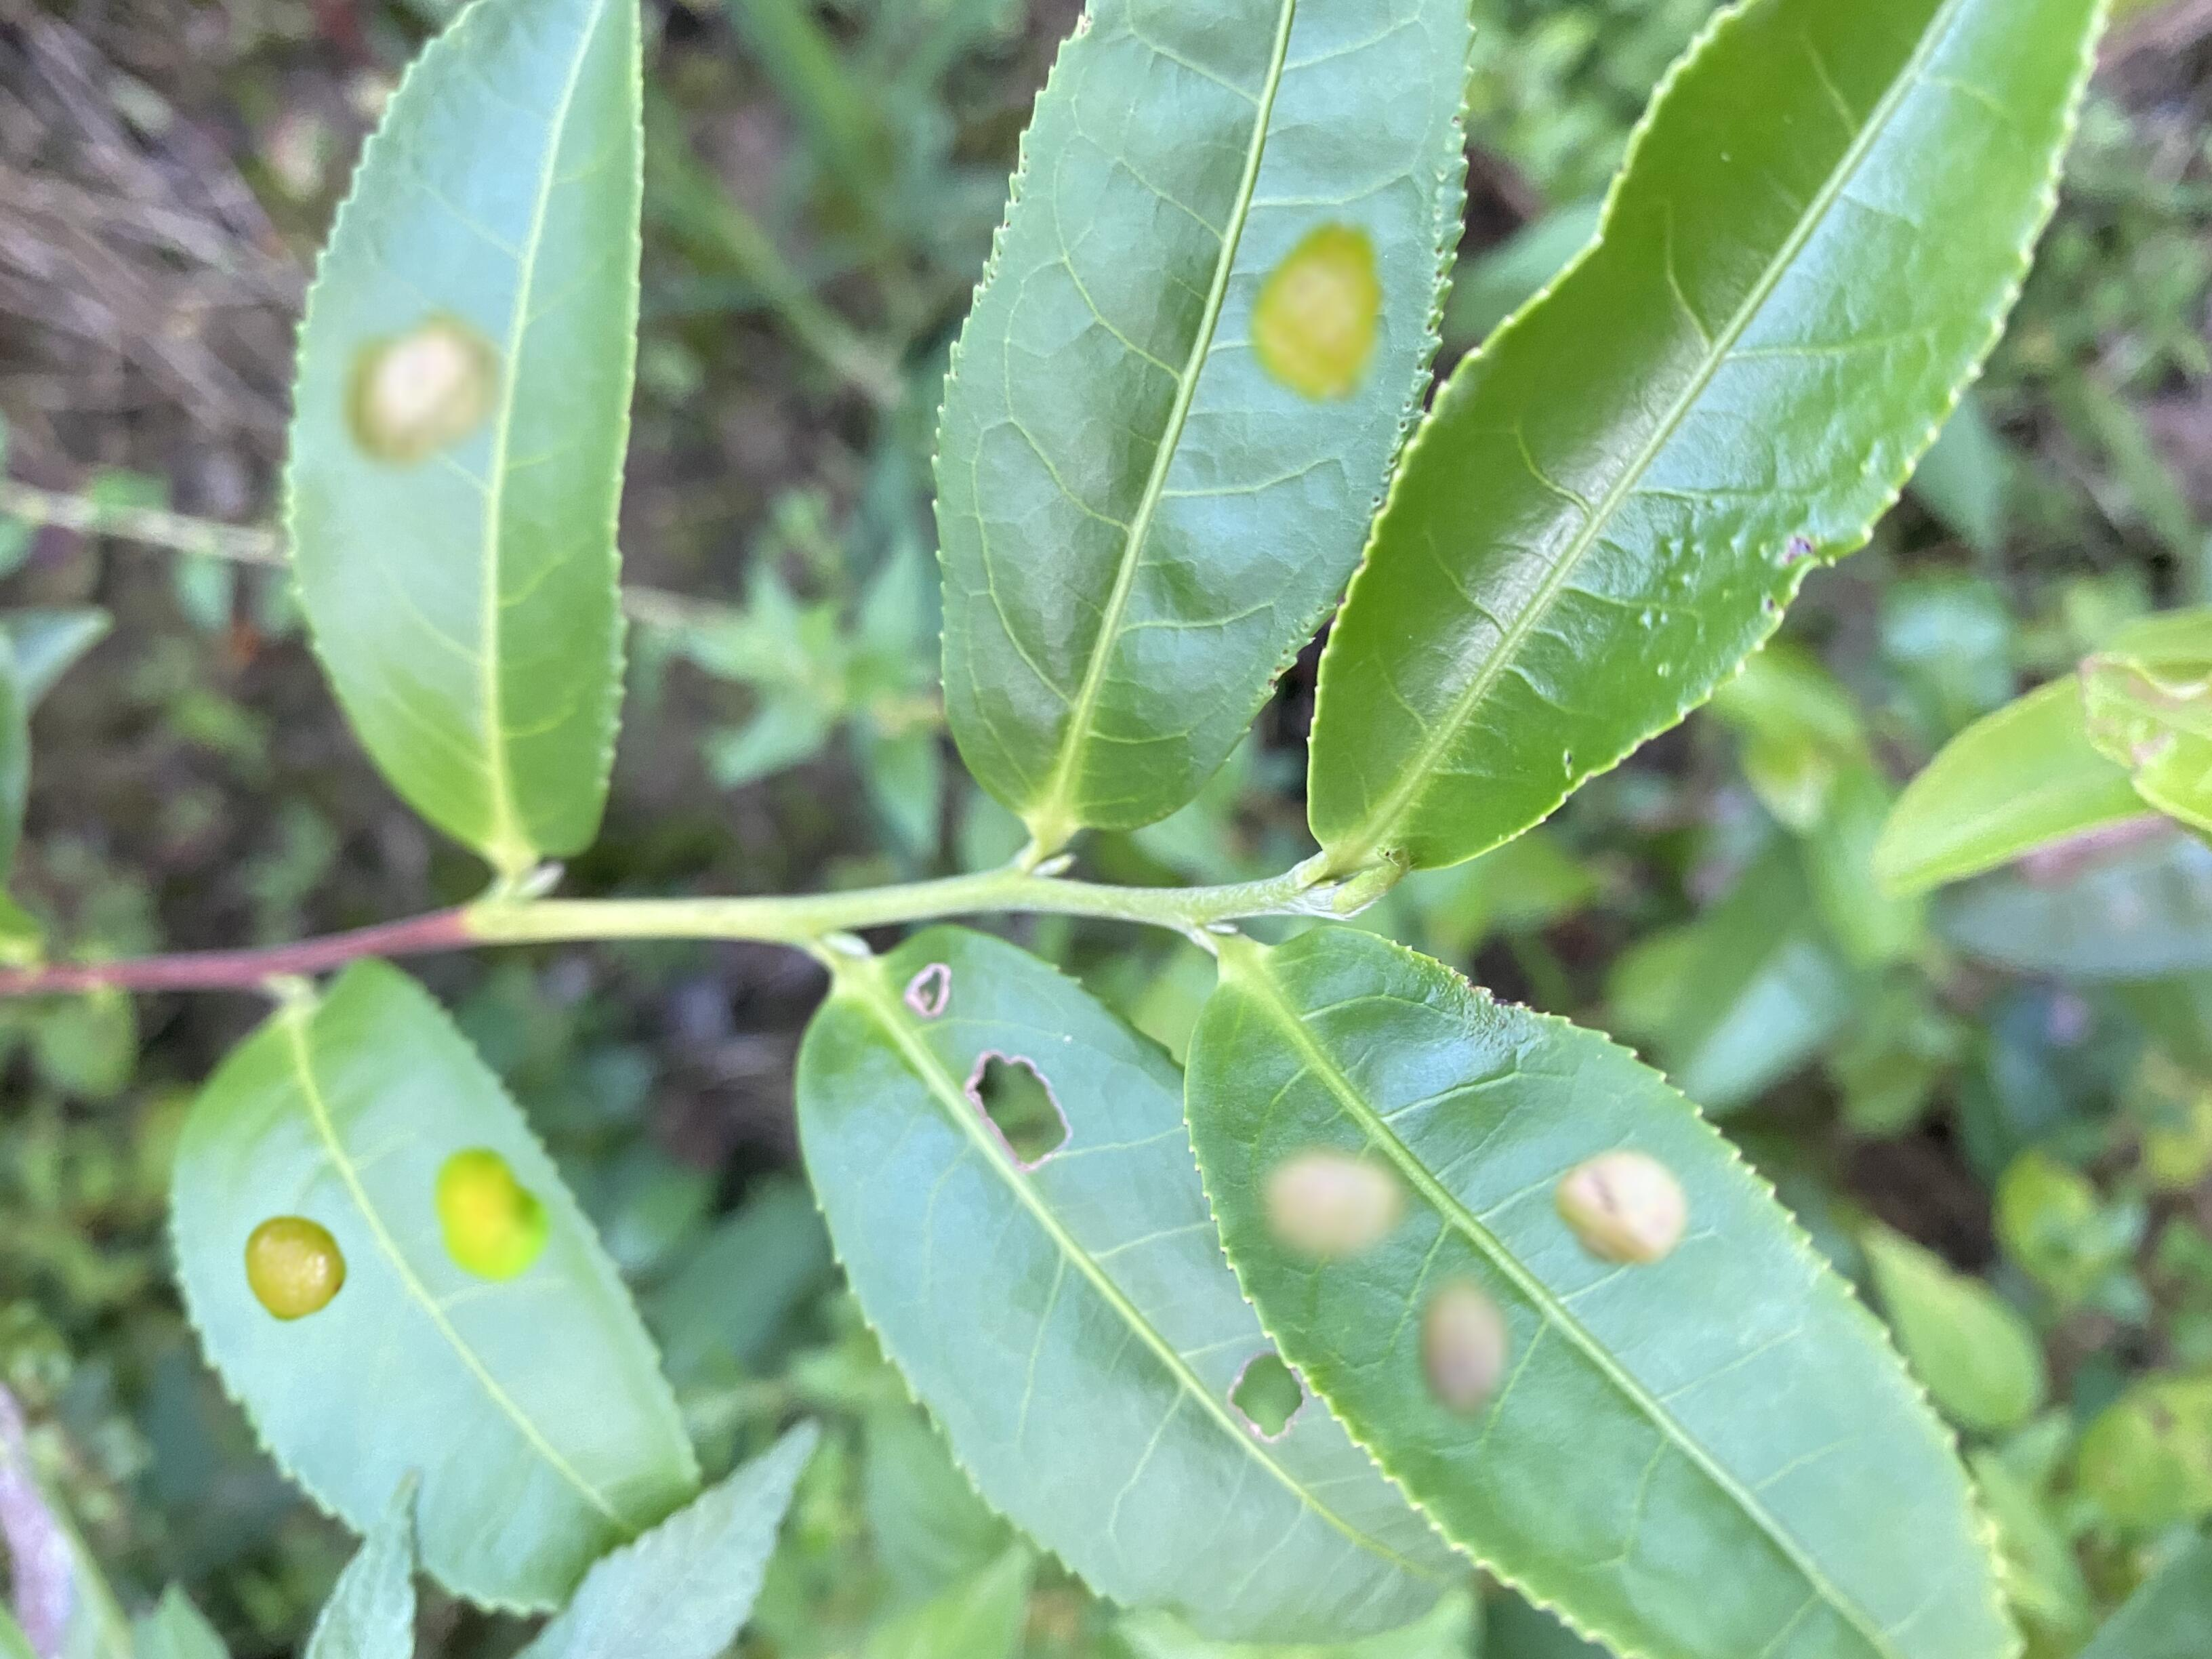chabing_high: (165, 957, 700, 1614)
chabing_low: (925, 2, 1479, 843), (280, 2, 646, 866)
chihuo_high: (792, 924, 1465, 1642)
healthy: (1186, 927, 2033, 1656)
tanju_low: (1305, 2, 2109, 871)
